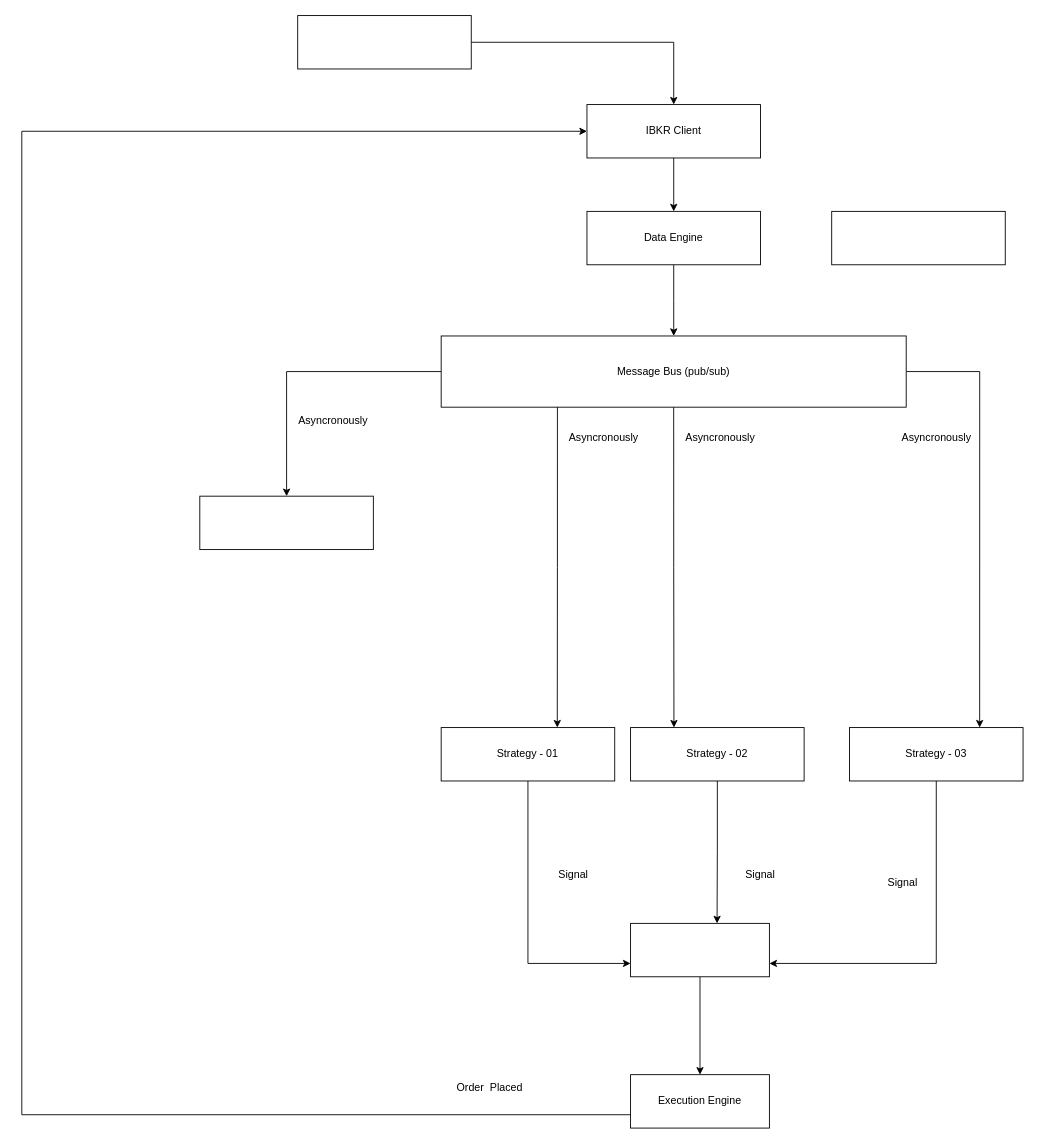
Some shapes in this 1039 by 1144 pixel diagram are drawn without their labels. Here are the shapes that lost their labels. From the top down, the centre of each, then its label:
At (x=384, y=42): "Monitoring and Logging".
At (x=918, y=237): "Input - Price, Size, Bid, Ask Output - Ltp".
At (x=286, y=522): "Database (pesistant)".
At (x=699, y=949): "Risk Engine".
